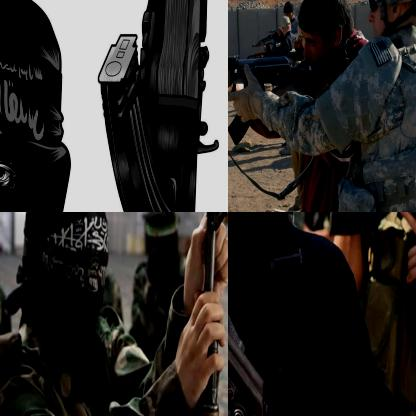rifle: (95, 0, 223, 211), (228, 54, 347, 148), (178, 212, 227, 415), (282, 212, 415, 278), (228, 212, 268, 415)
